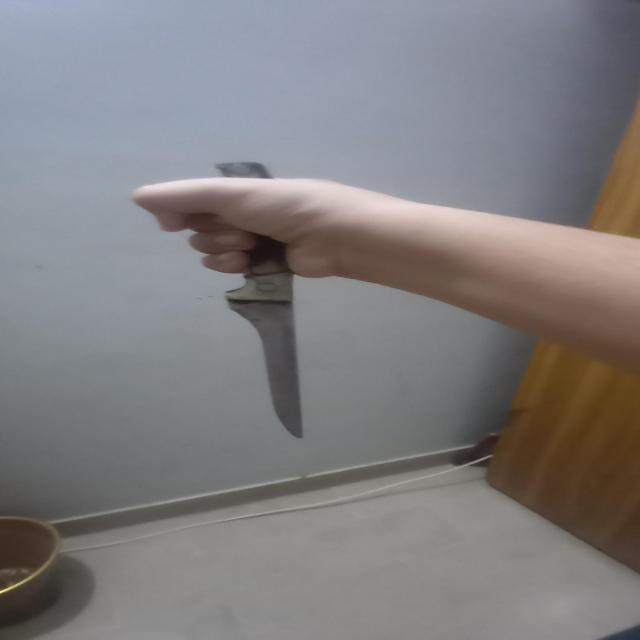faca: (214, 163, 308, 438)
